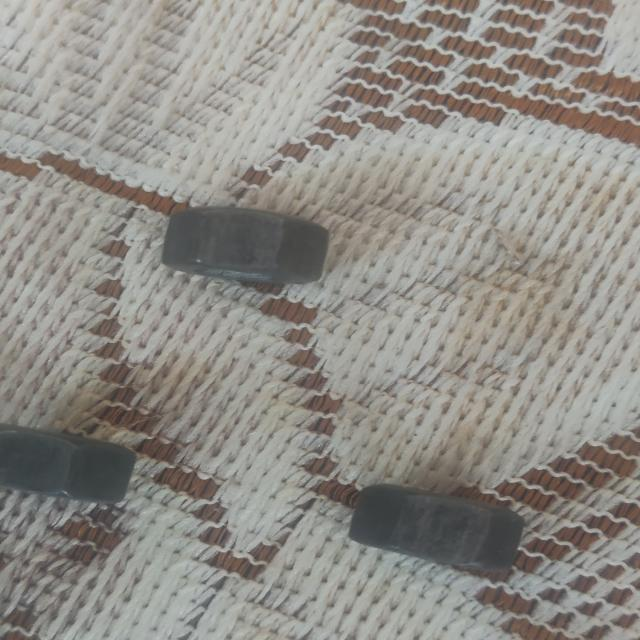disinfected nut: (350, 485, 523, 570), (163, 208, 330, 282), (0, 424, 133, 502)
